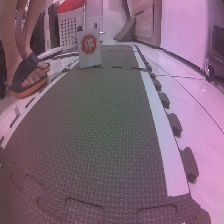stop: (78, 31, 97, 59)
